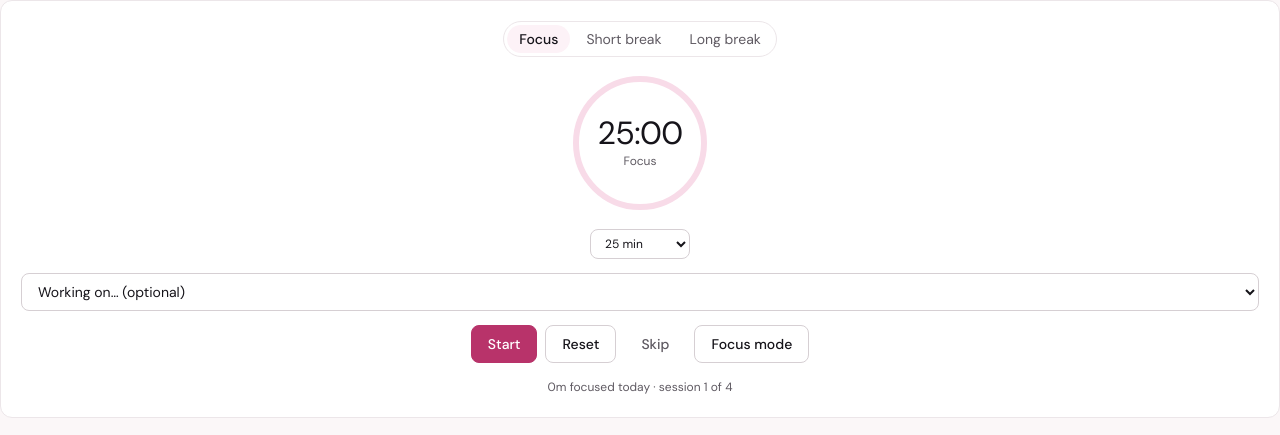
Test case: focus length picker › is hidden while running and back after pause
Click the button "Start".
click(504, 344)  # box [471,325,538,363]
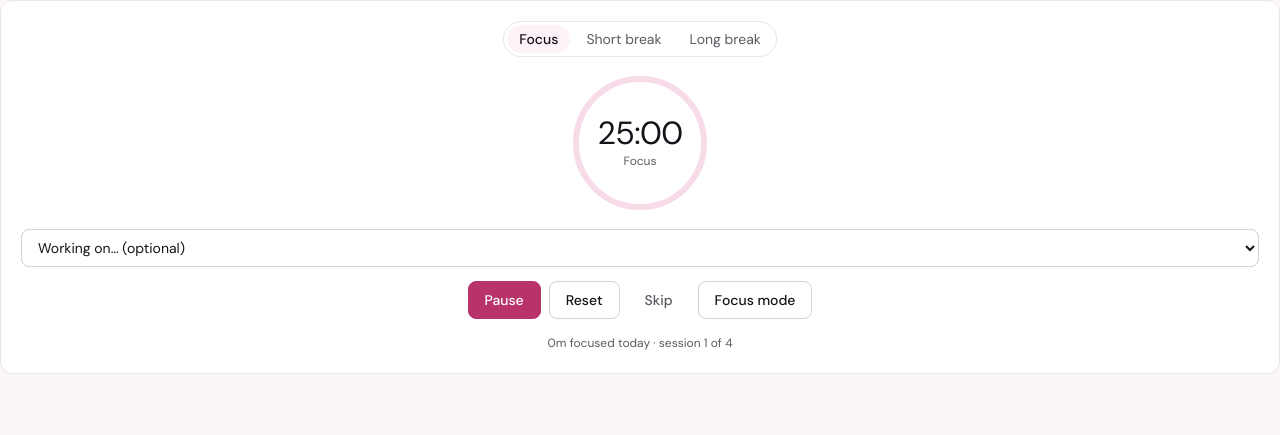
Click the button "Pause".
click(504, 300)  # box [468,281,541,319]
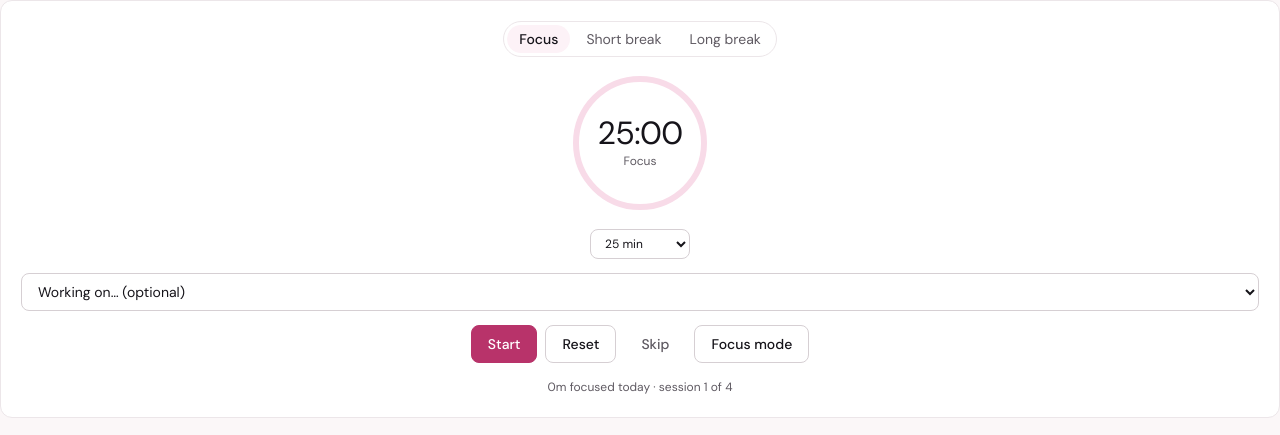
Expected: the dropdown named "Focus length" is shown, [590,229,690,259]
